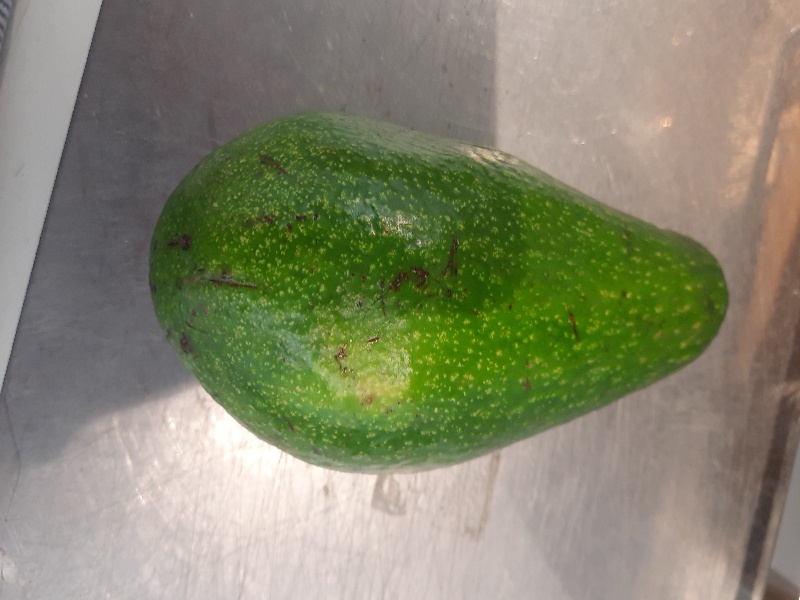fruit: (143, 105, 733, 475)
